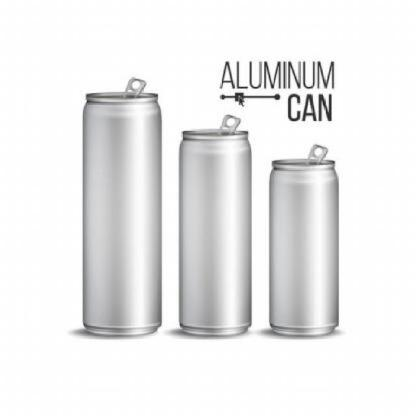Can: (61, 68, 159, 350), (175, 103, 261, 345), (261, 134, 349, 342)
